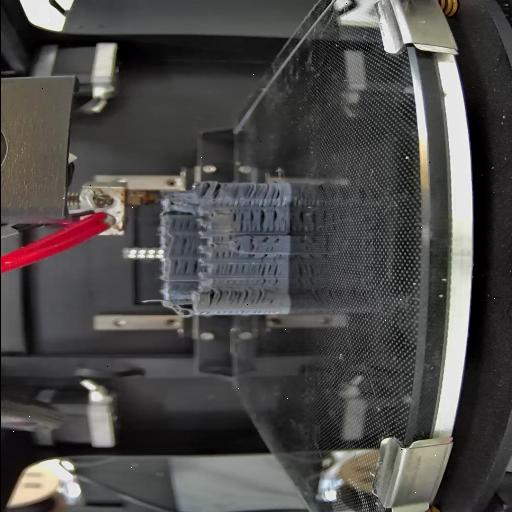cracks: (232, 182, 282, 208), (206, 289, 270, 307), (245, 210, 283, 234), (260, 254, 282, 288), (197, 180, 225, 202), (172, 235, 196, 257), (170, 260, 198, 278), (212, 264, 248, 276), (226, 212, 246, 232), (172, 218, 196, 232), (246, 237, 258, 259), (212, 250, 236, 260), (210, 236, 232, 244), (262, 236, 282, 243), (235, 244, 240, 254)
